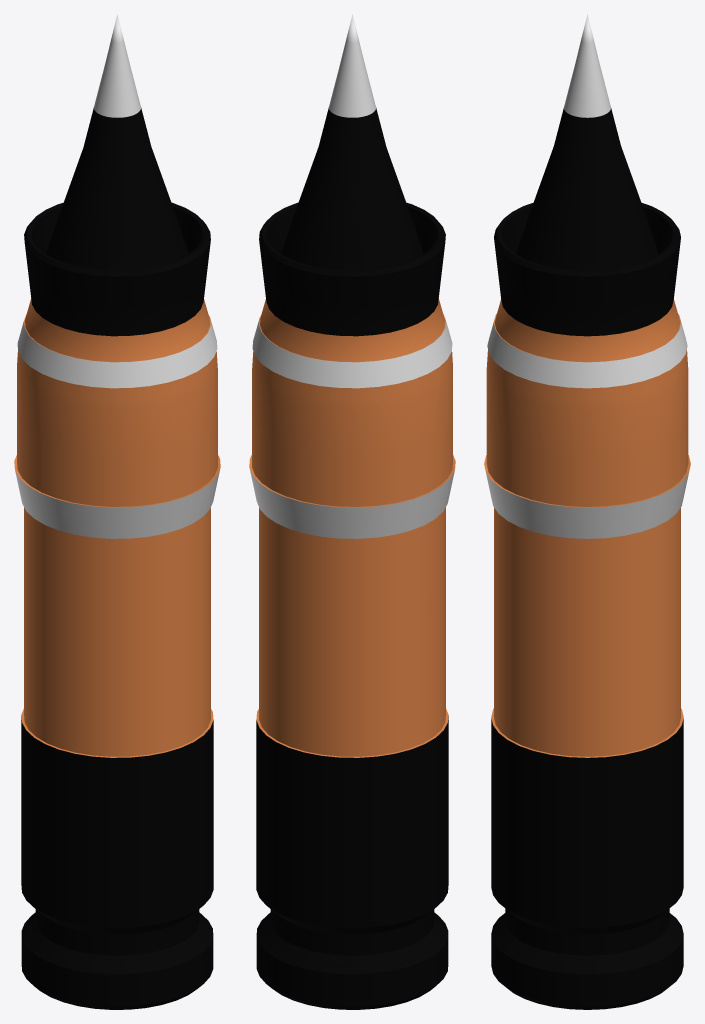
Rendered from TANKSHELL (1).dae.
3 views of the same model, side by side, from view 1: azimuth 30°, elevation 25°; view 2: azimuth 150°, elevation 25°; view 3: azimuth 270°, elevation 25° (orthographic).
Visible parts, largest first — view 1: Cylinder; view 2: Cylinder; view 3: Cylinder.
Boxes of the visible parts, bbox=[...] form: Cylinder: bbox=[14, 14, 220, 1009]; Cylinder: bbox=[249, 14, 455, 1009]; Cylinder: bbox=[484, 14, 690, 1009].
Size of the model in its own units: 2.08 by 2.08 by 10.65.
